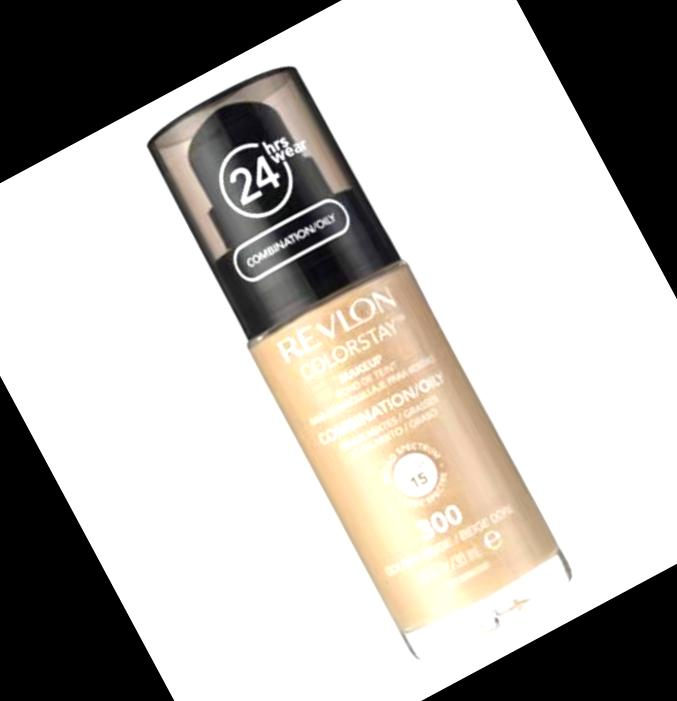cosmetic: (134, 51, 579, 663)
